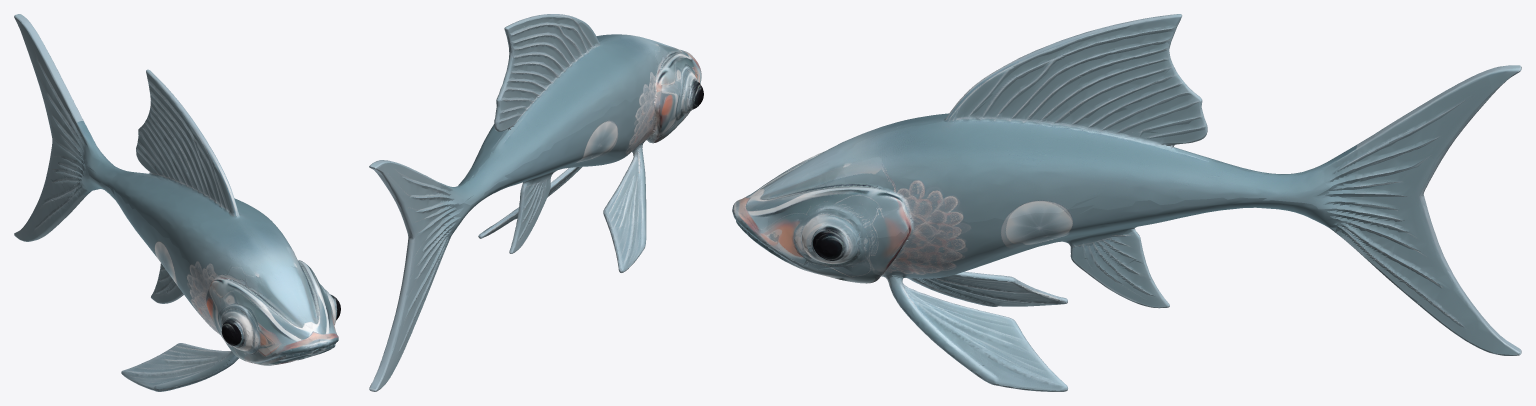
The model's file is fish_chimefish.glb.
3 views of the same model, side by side, from view 1: azimuth 30°, elevation 25°; view 2: azimuth 150°, elevation 25°; view 3: azimuth 270°, elevation 25° (orthographic). The views are drawn at different scales.
Bounding box in the file's own units: 0.5112 × 0.9025 × 1.9.
Materials: 1 (1 with a texture image).
